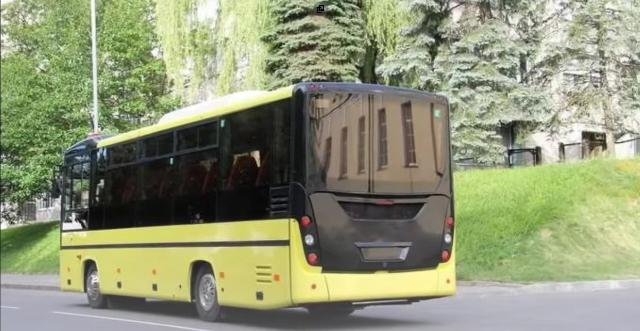bus: (52, 77, 461, 325)
